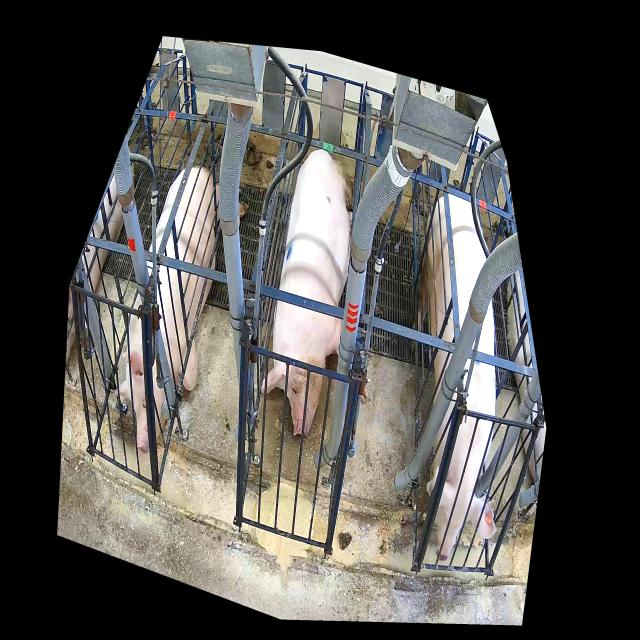pig: (114, 165, 248, 455), (411, 193, 496, 562), (261, 148, 367, 437)
